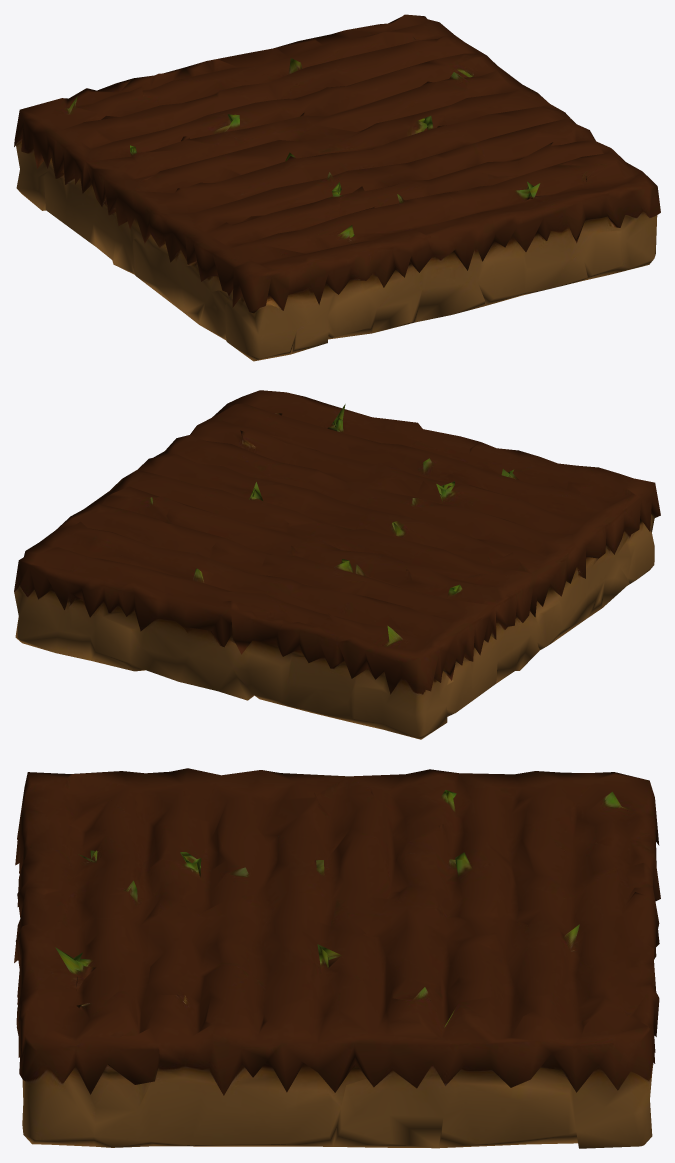
Rendered from fertile_ground_tile.glb.
The picture shows the model from 3 angles, top to bottom: view 1: azimuth 30°, elevation 25°; view 2: azimuth 150°, elevation 25°; view 3: azimuth 270°, elevation 25°; orthographic projection. The views are drawn at different scales.
Parts seen in each view (by area): view 1: tripo_node_125eaf8b-7521-49c5-b07e-82a78370cb05; view 2: tripo_node_125eaf8b-7521-49c5-b07e-82a78370cb05; view 3: tripo_node_125eaf8b-7521-49c5-b07e-82a78370cb05.
Boxes of the visible parts, x1,y1,x2,y2 form: tripo_node_125eaf8b-7521-49c5-b07e-82a78370cb05: (14,14,660,361); tripo_node_125eaf8b-7521-49c5-b07e-82a78370cb05: (14,390,660,739); tripo_node_125eaf8b-7521-49c5-b07e-82a78370cb05: (14,768,660,1148).
Size of the model in its own units: 0.9929 by 0.23 by 1.
1 material, 1 textured.
